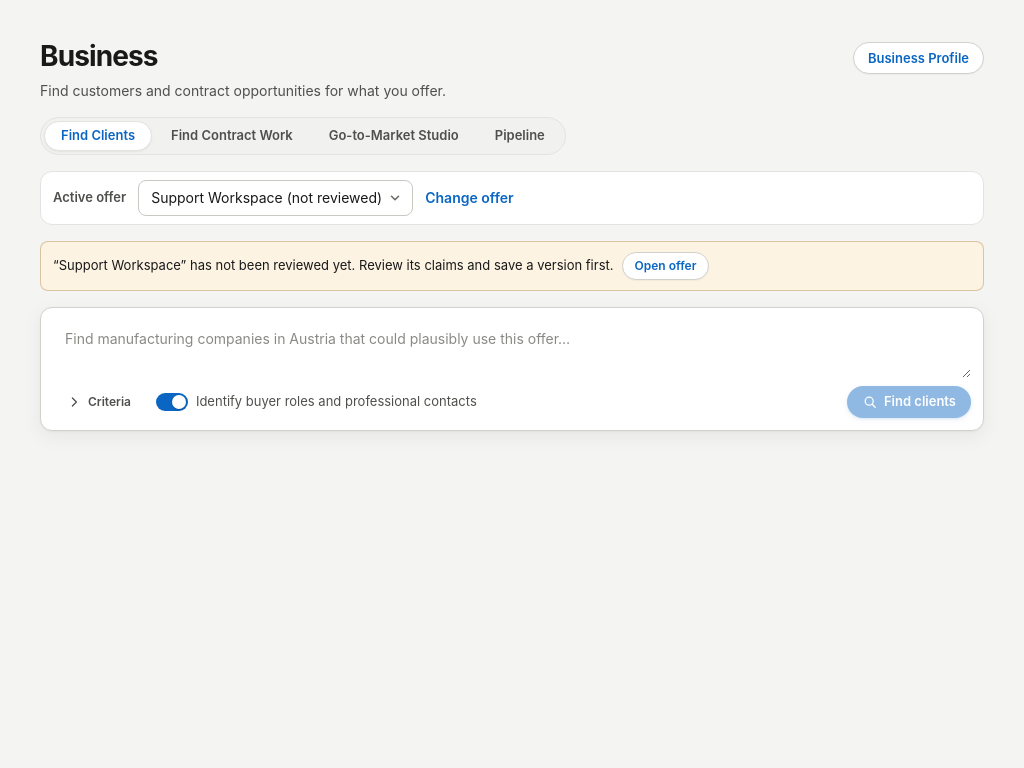
Test case: BusinessPage › reviews an offer: confirming claims and saving a version
The width and height of the screenshot is (1024, 768).
Click the button "Open offer": (665, 266) [622, 252, 709, 280]
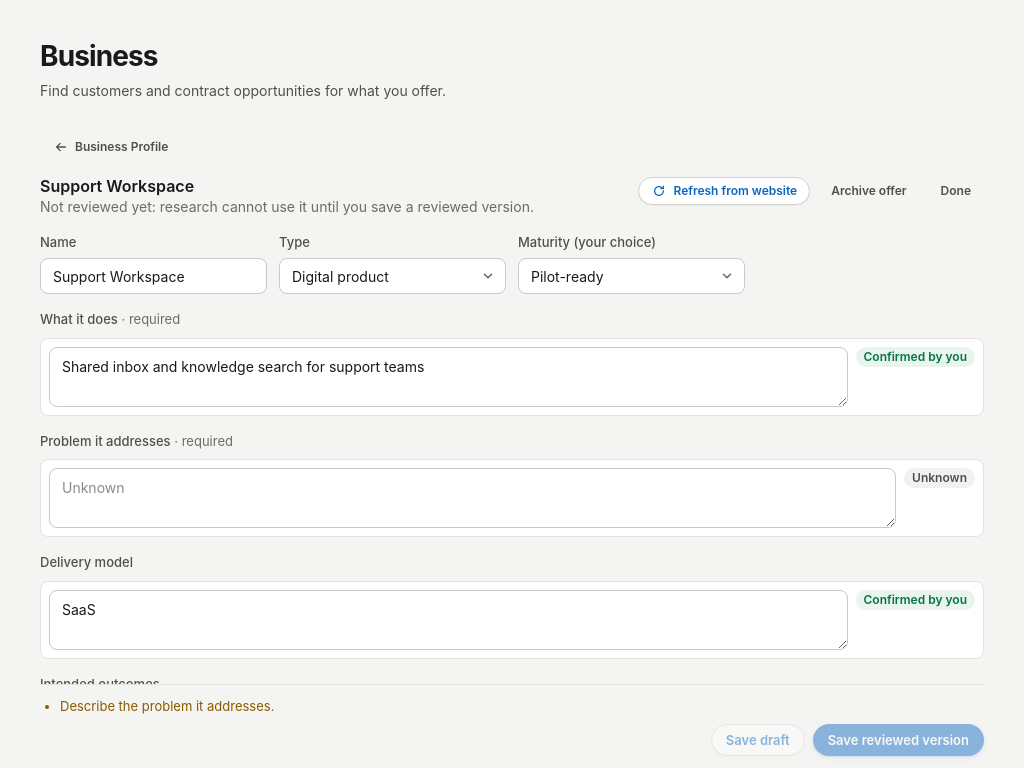
Now the text "Not reviewed yet: research cannot use it until you save a reviewed version." is shown, box [40, 196, 534, 217]
Now the button "Save reviewed version" is disabled, box [813, 724, 984, 756]
Now the list item "Describe the problem it addresses." is shown, box [60, 698, 274, 714]
In the text box named "Problem it addresses": (473, 498) [49, 468, 896, 528], type "Answers are scattered"
(page scrolled)
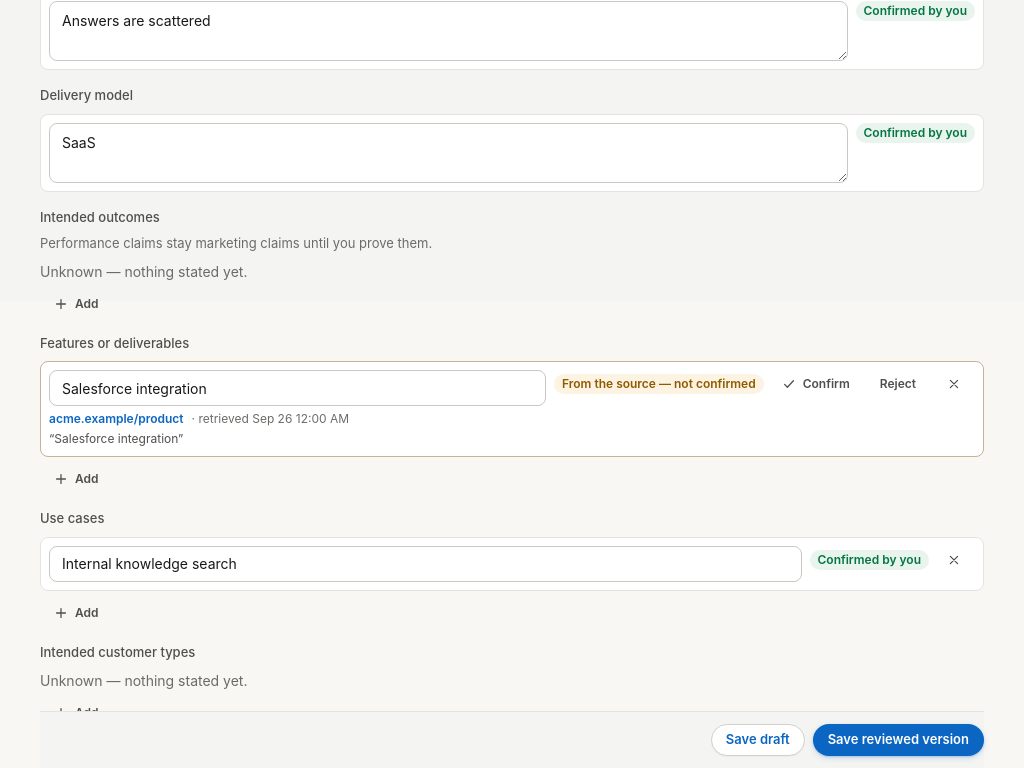
Click the button "Confirm": (815, 384) [768, 370, 863, 398]
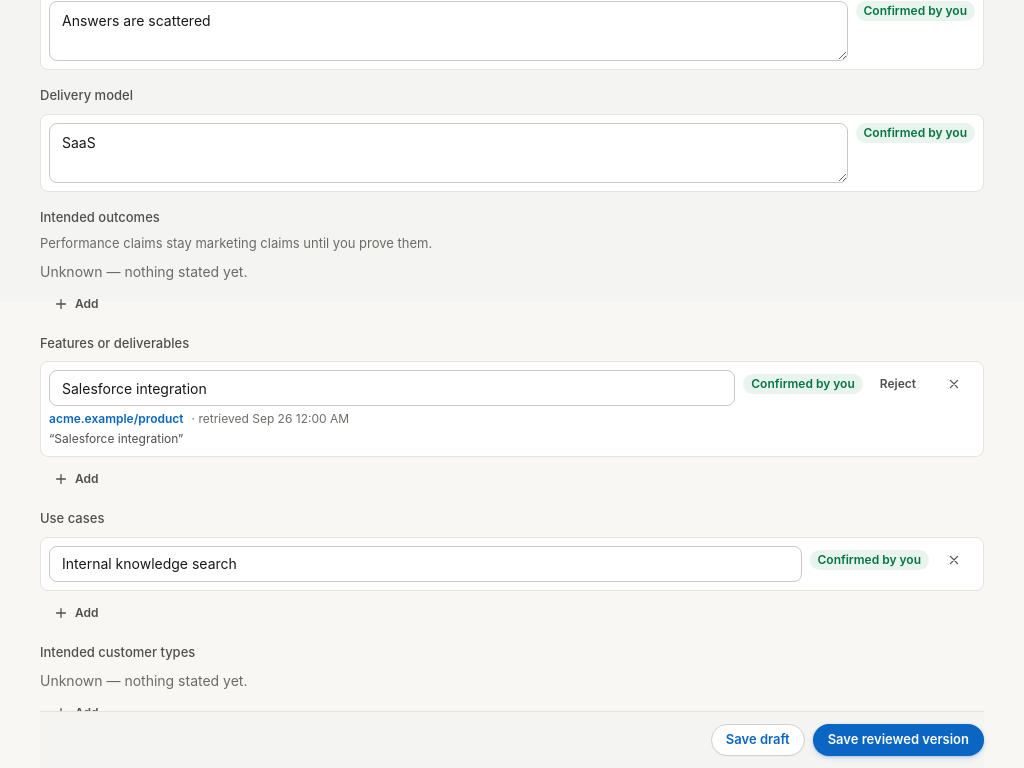
Now the button "Save reviewed version" is enabled
Click the button "Save reviewed version": (898, 740) [813, 724, 984, 756]
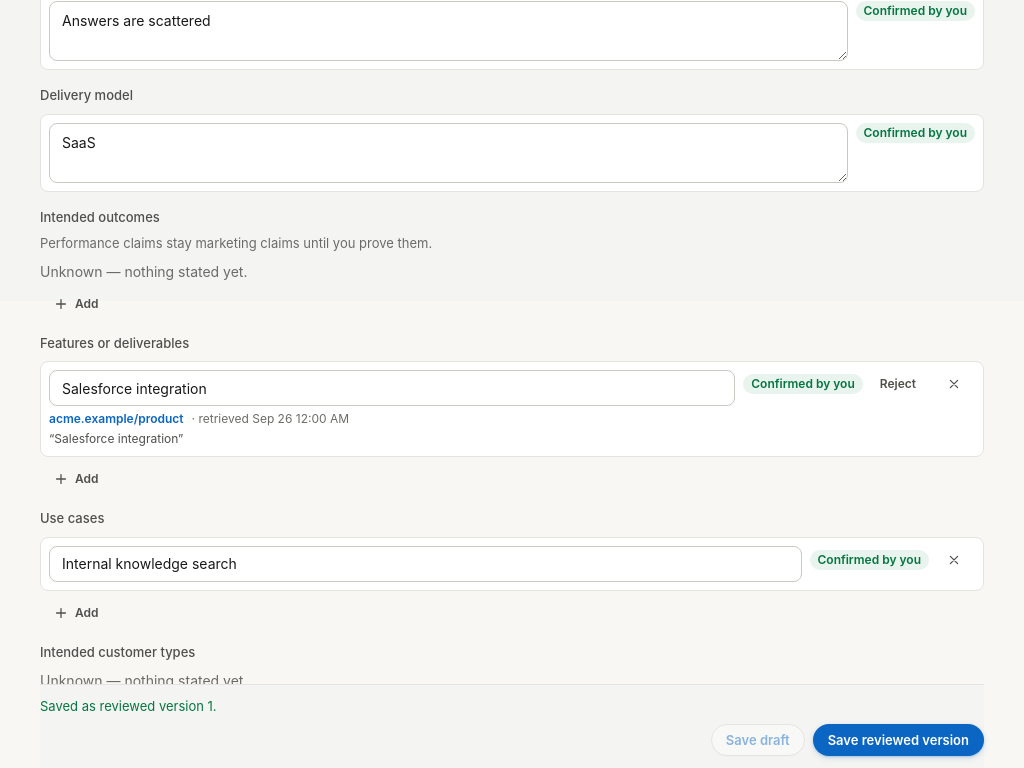
Now the text "Saved as reviewed version 1." is shown, box [40, 698, 217, 714]
